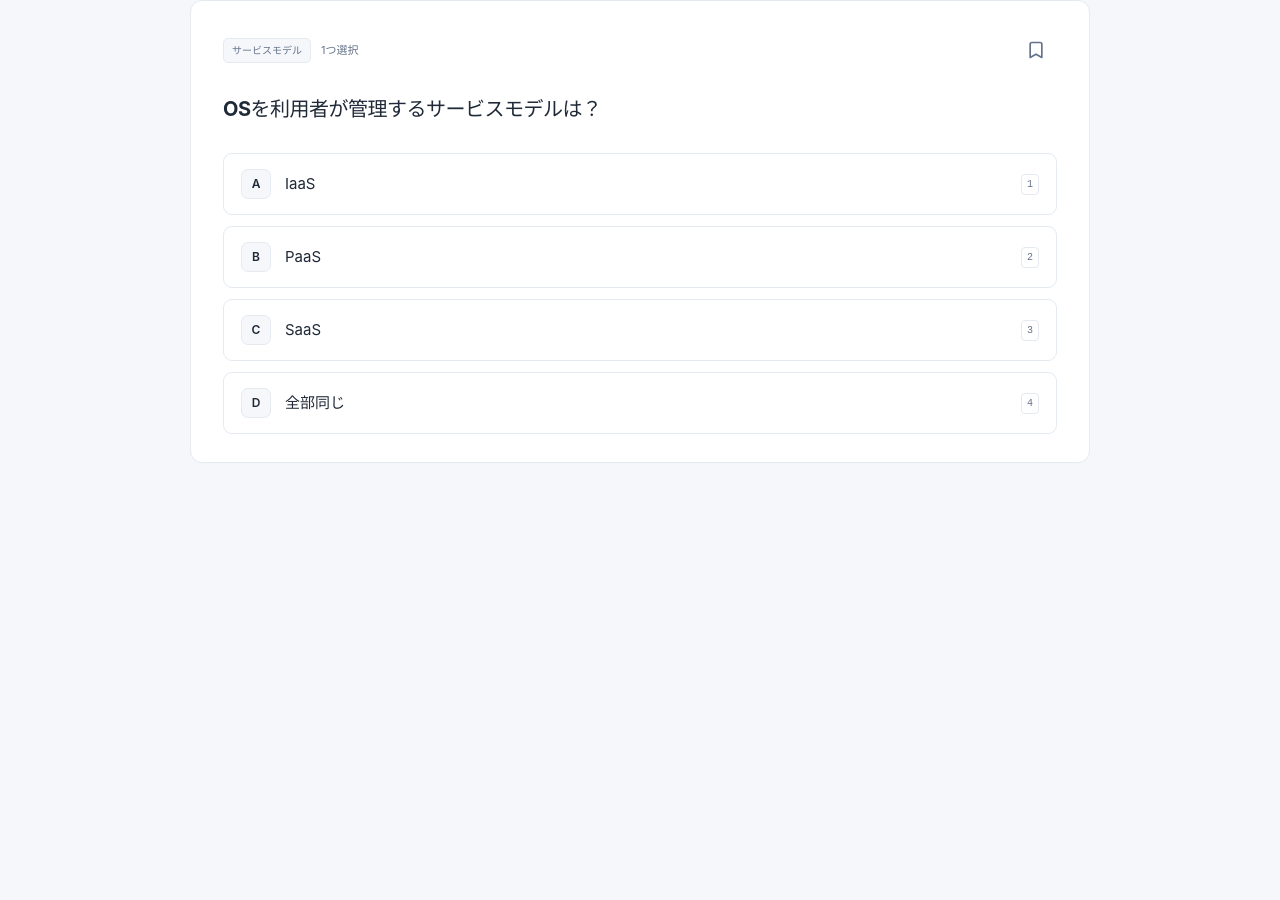
Test case: 1タップ演習UI › 1タップで正解・解説を即表示、回答確定ボタンなし
Click the button "A IaaS 1".
click(300, 184)  # box [223,153,1057,215]
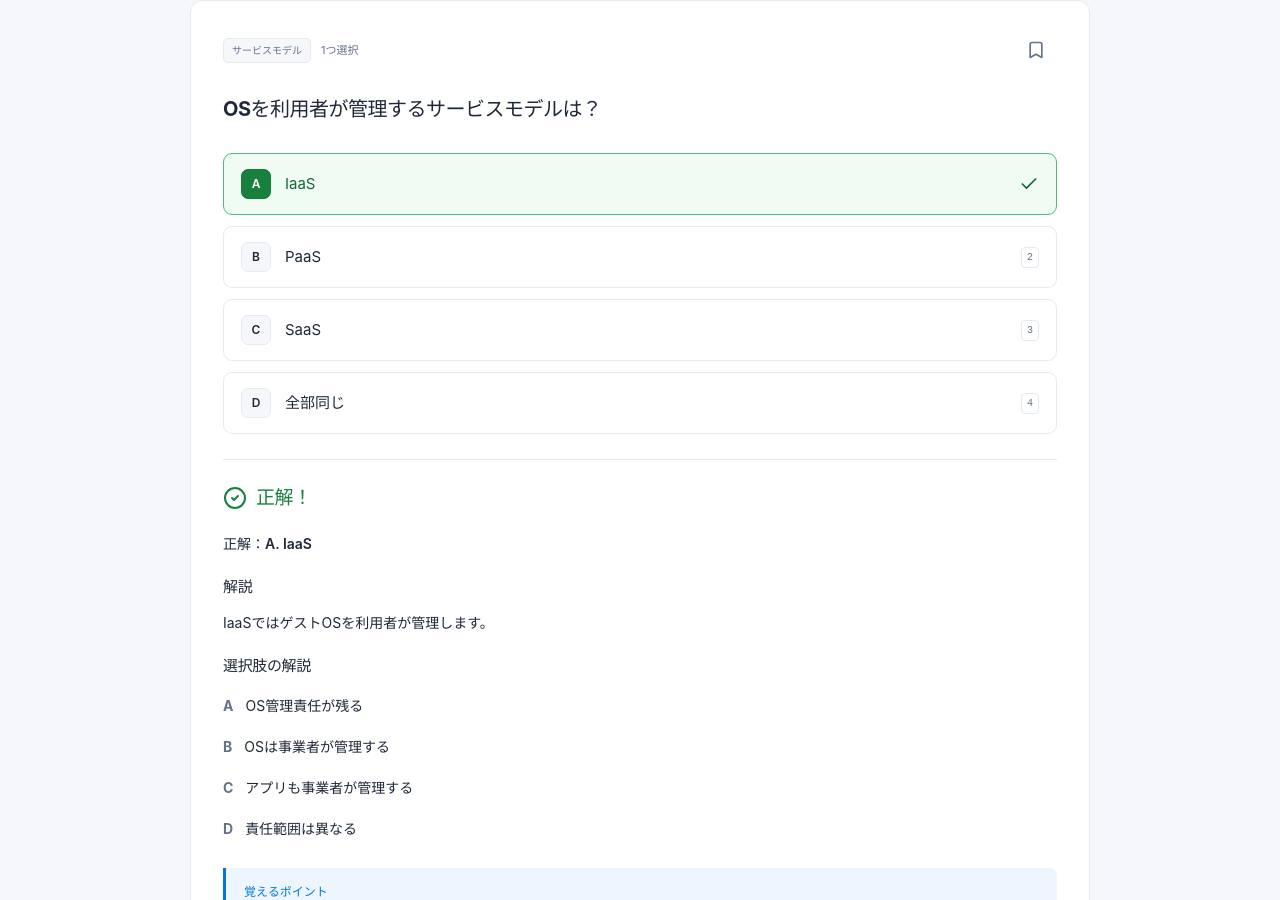
Expected: the heading "正解！" is shown, [223,484,312,512]
Expected: the text "IaaSではゲストOSを利用者が管理します。" is shown, [223,614,494,631]
